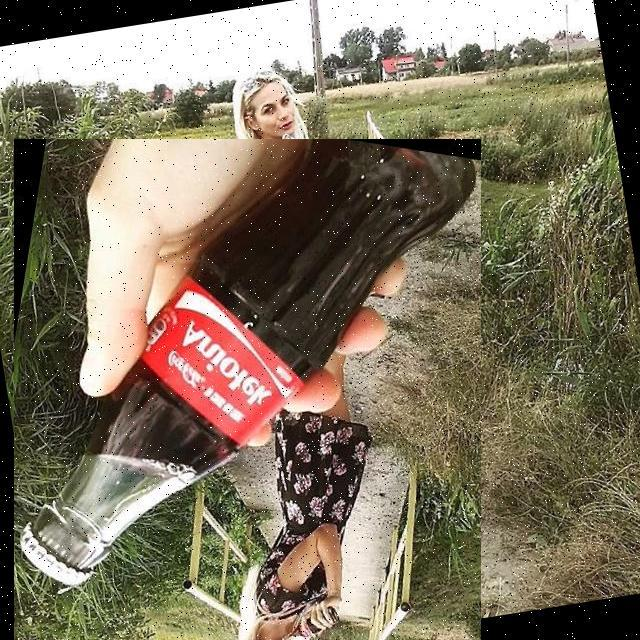coca-cola: (14, 139, 481, 640)
